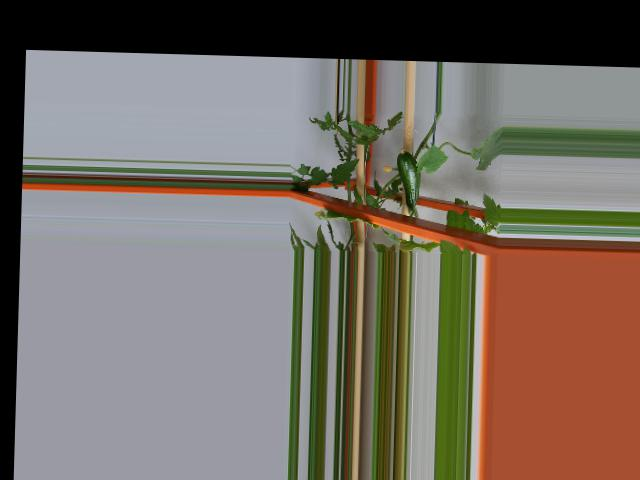cucumber: (395, 146, 421, 207)
